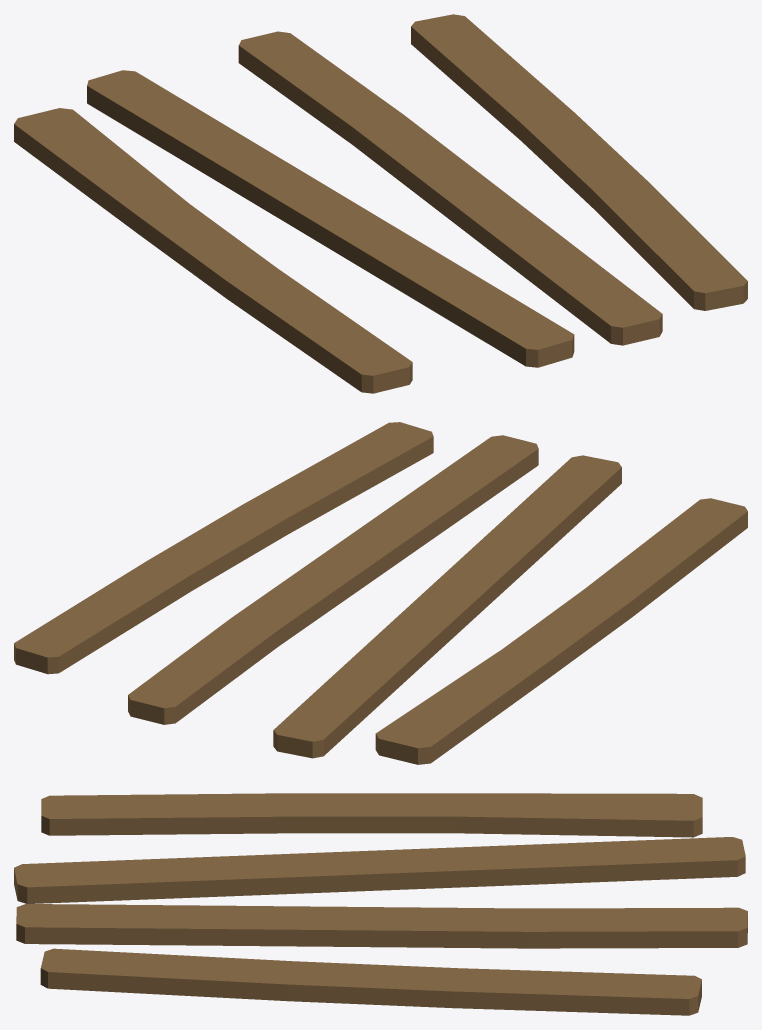
Rendered from Planks_1.fbx.
The picture shows the model from 3 angles, top to bottom: view 1: azimuth 30°, elevation 25°; view 2: azimuth 150°, elevation 25°; view 3: azimuth 270°, elevation 25°; orthographic projection. The views are drawn at different scales.
Parts seen in each view (by area): view 1: Planks_1; view 2: Planks_1; view 3: Planks_1.
Part boxes in pixels (left/top/right/bottom): Planks_1: left=14, top=14, right=747, bottom=393; Planks_1: left=14, top=422, right=747, bottom=764; Planks_1: left=14, top=793, right=747, bottom=1015.
Size of the model in its own units: 135 by 5.12 by 204.
